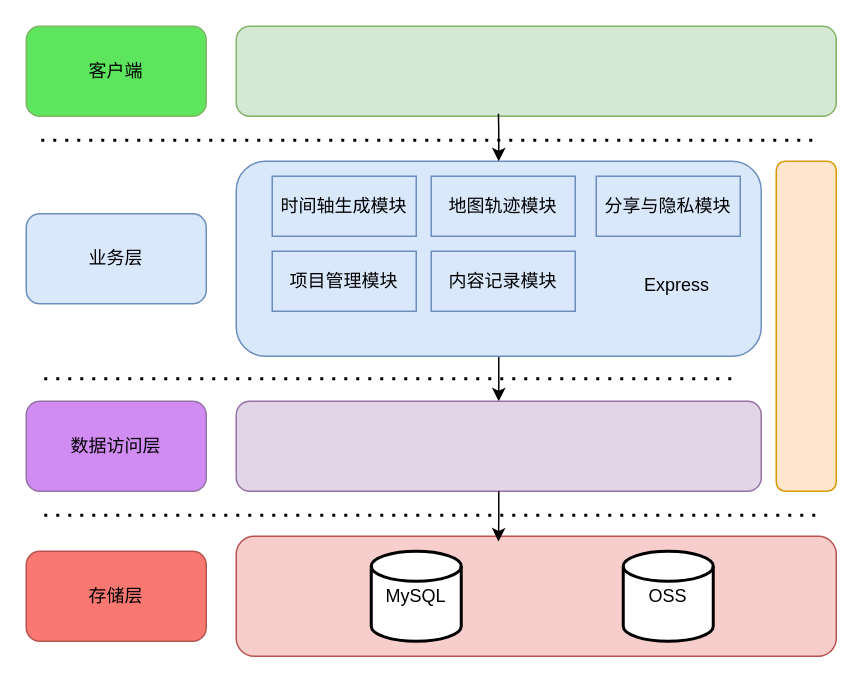
Image size: 863x683. Some labels were removed from this diagram. Each missing label, with the centre of its shape:
"Sequlize ORM" belongs at (x=498, y=445).
"微信小程序端" belongs at (x=535, y=70).
"权 限 控 制" belongs at (x=805, y=325).
